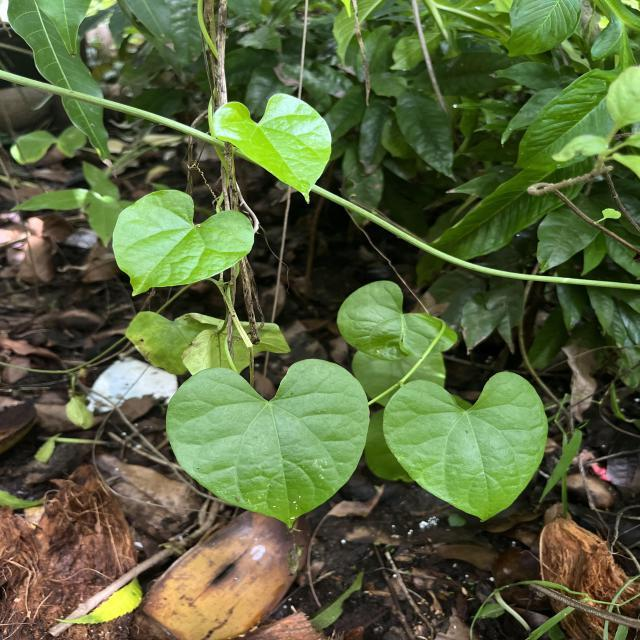Tinospora cordifolia: (164, 356, 374, 530), (380, 368, 552, 526), (109, 185, 257, 298), (208, 89, 334, 207)
